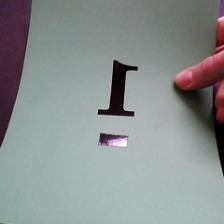green1: (85, 52, 147, 149)
